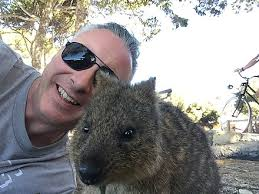quokka: (58, 65, 245, 194)
